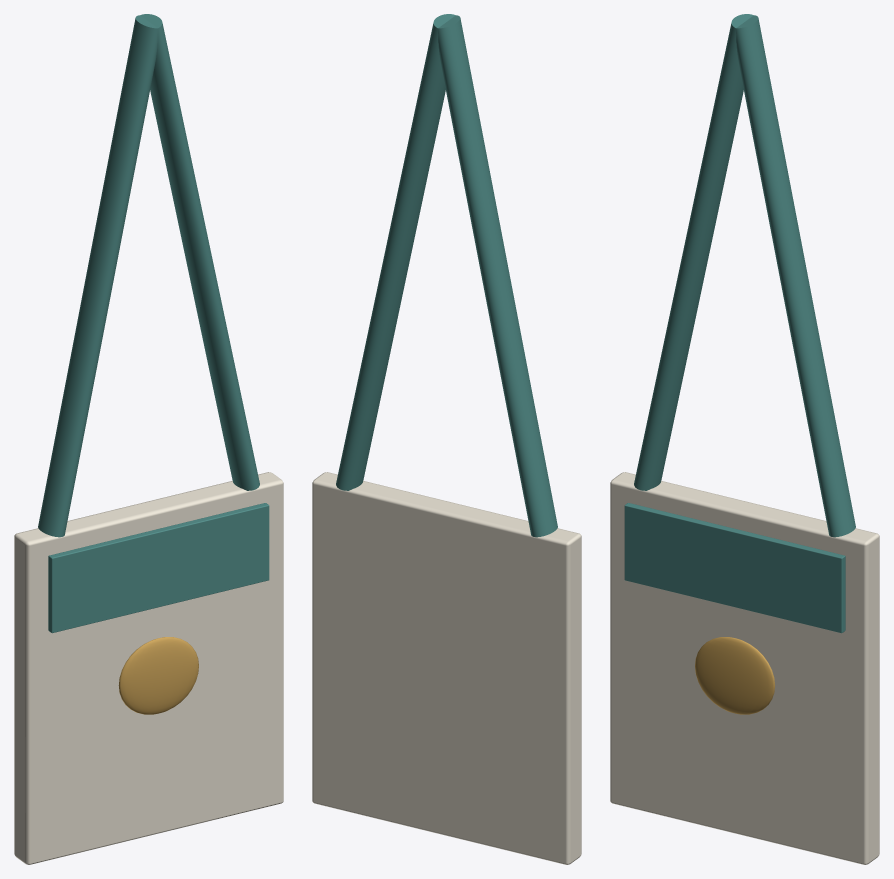
Rendered from wp-badge-de-participant.glb.
3 renders of one model, left to right at view 1: azimuth 30°, elevation 25°; view 2: azimuth 150°, elevation 25°; view 3: azimuth 330°, elevation 25°, orthographic.
Visible parts, largest first — view 1: wp-badge-de-participant; view 2: wp-badge-de-participant; view 3: wp-badge-de-participant.
Part boxes in pixels (box(x1,y1,x2,y2)): wp-badge-de-participant: box(14, 14, 283, 864); wp-badge-de-participant: box(312, 14, 581, 864); wp-badge-de-participant: box(610, 14, 879, 864).
Size of the model in its own units: 0.1 by 0.3 by 0.015.
